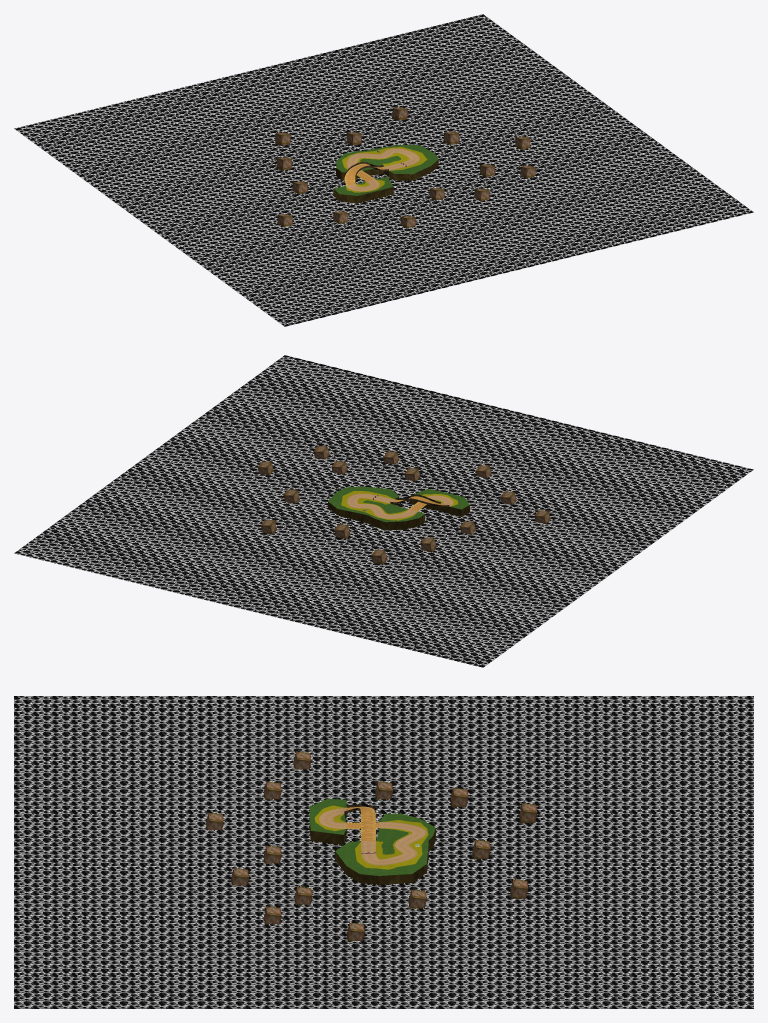
3 renders of one model, top to bottom at view 1: azimuth 30°, elevation 25°; view 2: azimuth 150°, elevation 25°; view 3: azimuth 270°, elevation 25°, orthographic. The views are drawn at different scales.
Parts seen in each view (by area): view 1: Water.003, GrassOutofbounds, RockWall, ConcreteRoad, GrassOffroad; view 2: Water.003, GrassOutofbounds, RockWall, ConcreteRoad, GrassOffroad; view 3: Water.003, GrassOutofbounds, ConcreteRoad, RockWall, GrassOffroad, WoodenRoadSticky.
Part boxes in pixels (x1=…): Water.003: x1=14, y1=14, x2=753, y2=326; GrassOutofbounds: x1=334, y1=145, x2=438, y2=195; RockWall: x1=334, y1=159, x2=438, y2=203; ConcreteRoad: x1=346, y1=148, x2=419, y2=191; GrassOffroad: x1=342, y1=147, x2=427, y2=192; Water.003: x1=14, y1=355, x2=753, y2=667; GrassOutofbounds: x1=328, y1=486, x2=469, y2=522; RockWall: x1=328, y1=496, x2=469, y2=530; ConcreteRoad: x1=346, y1=493, x2=453, y2=518; GrassOffroad: x1=341, y1=491, x2=457, y2=520; Water.003: x1=14, y1=696, x2=753, y2=1008; GrassOutofbounds: x1=309, y1=798, x2=435, y2=875; ConcreteRoad: x1=318, y1=808, x2=426, y2=865; RockWall: x1=309, y1=813, x2=435, y2=884; GrassOffroad: x1=314, y1=805, x2=428, y2=869; WoodenRoadSticky: x1=345, y1=806, x2=379, y2=841.
Bounding box in the file's own units: 200355 × 10073 × 200355.
Materials: 11 (11 with a texture image).
